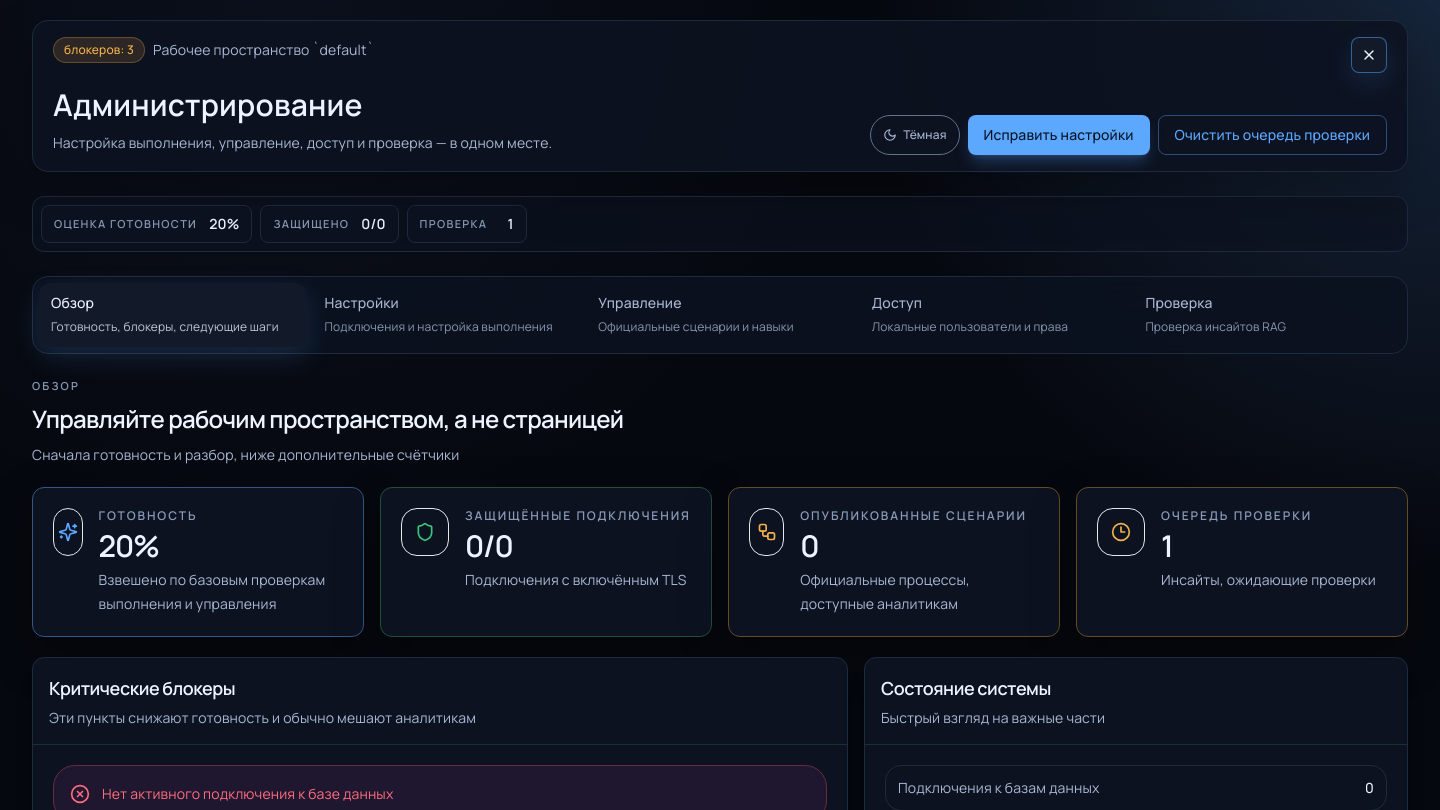
Test: AdminPageClient › validates and preserves the rate-limit dialog after an API error
Click the button "Доступ Локальные пользователи и права": (994, 315) [860,283,1127,347]
(page scrolled)
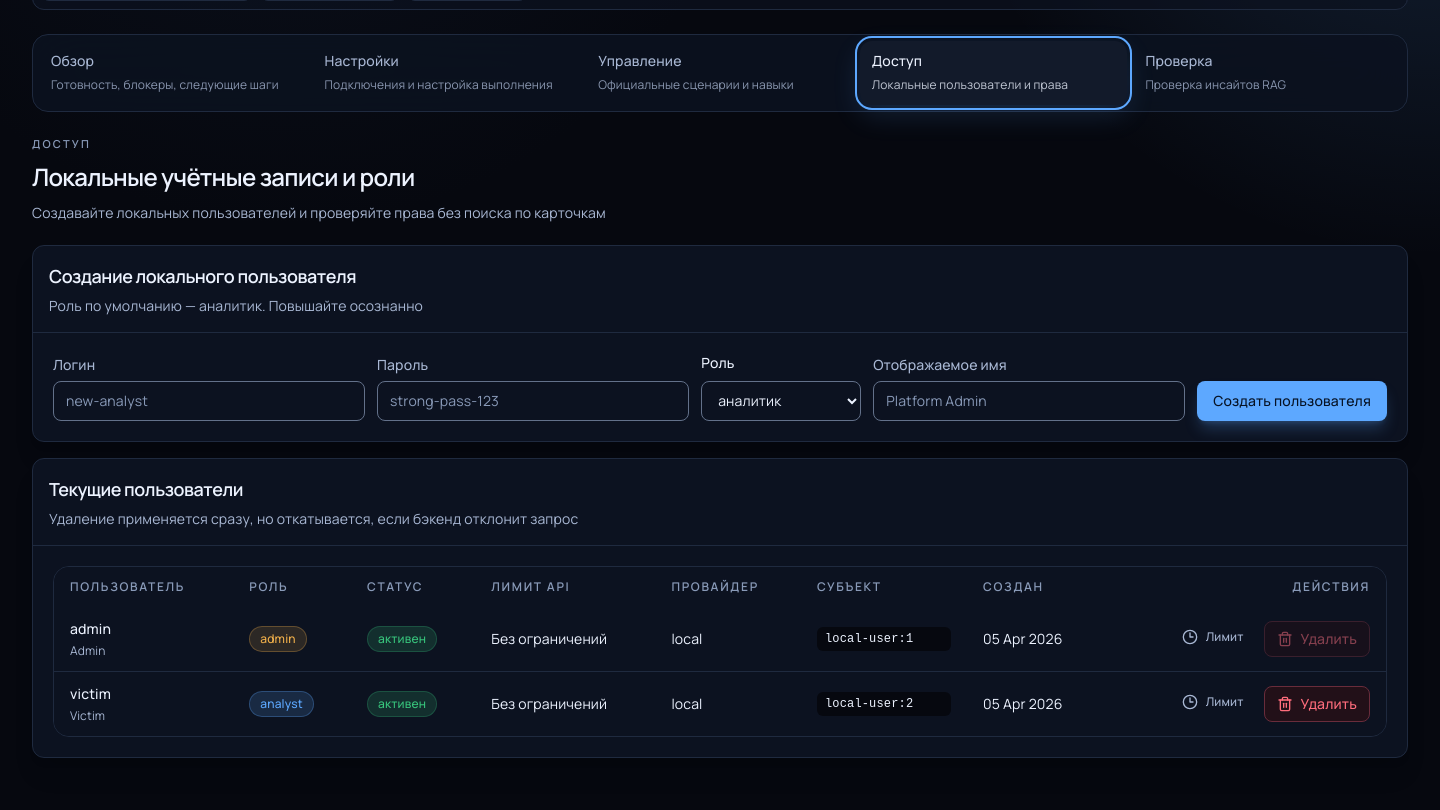
Click the button with aria-label "Настроить лимит API для victim": (1213, 702) [1170,686,1256,718]
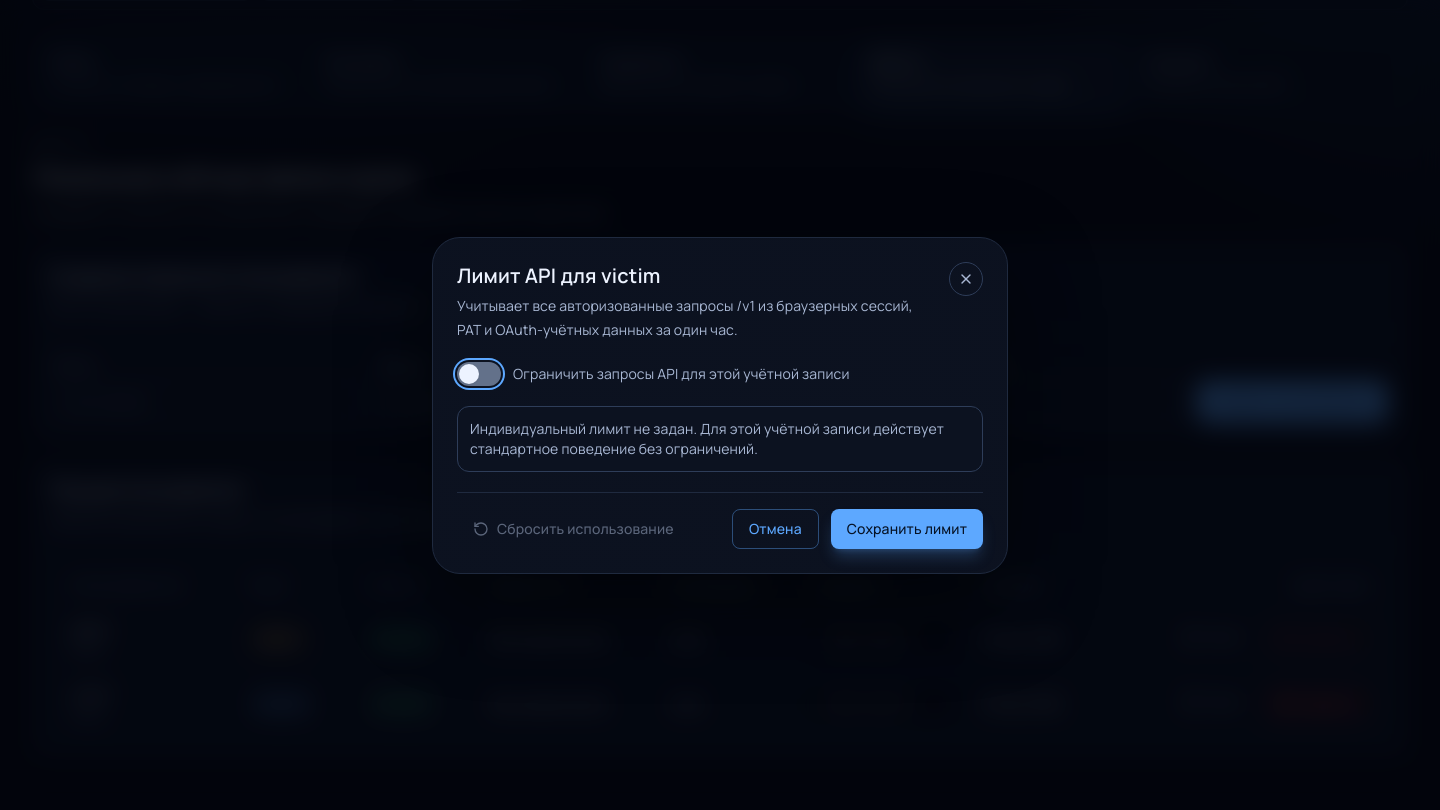
Click the checkbox labelled "Ограничить запросы API для этой учётной записи": (653, 374) [457,362,850,386]
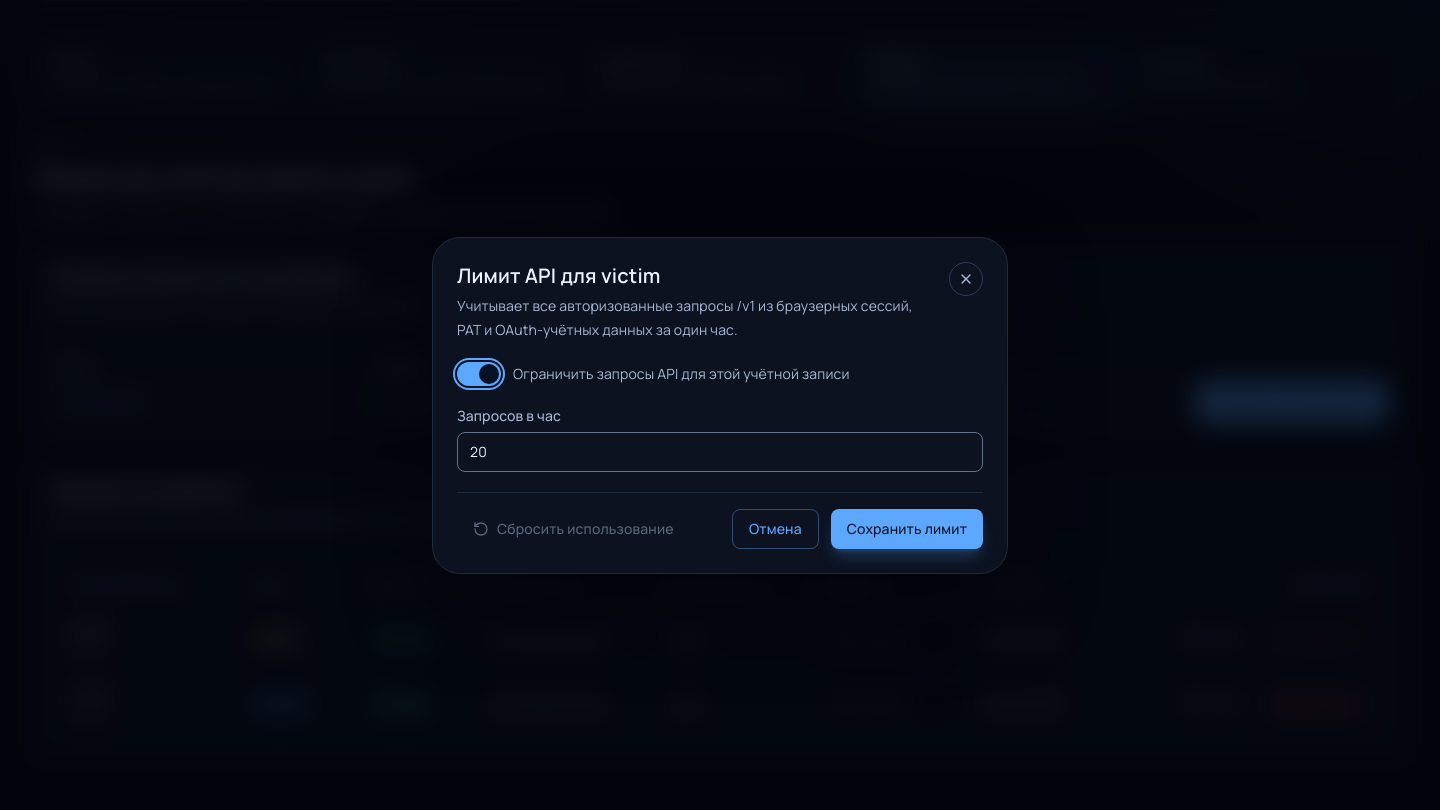
Replace the text in the number field labelled "Запросов в час" with "0": (720, 452) [457,432,983,472]
Click the button "Сохранить лимит": (907, 528) [831,508,983,548]
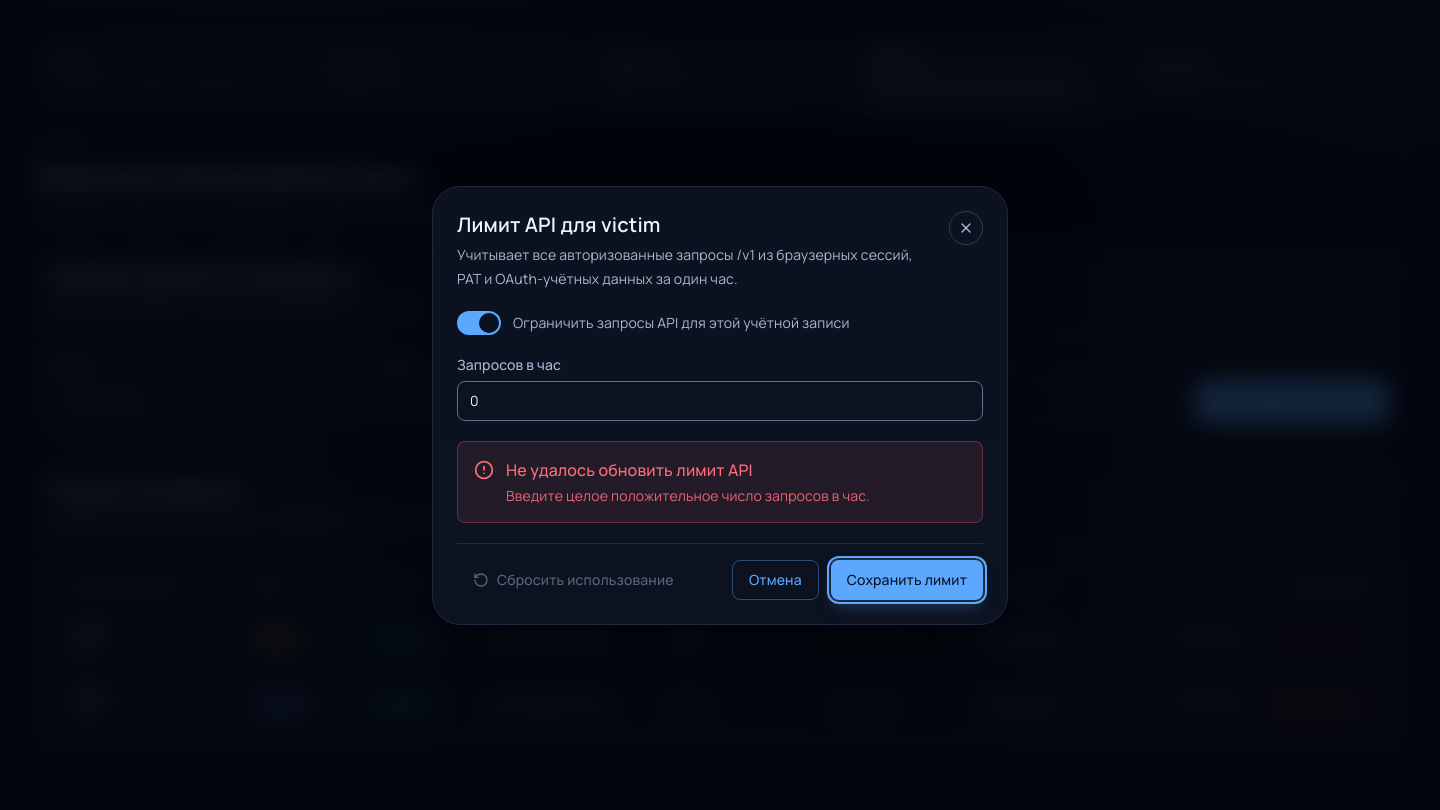
Result: the text "Введите целое положительное число запросов в час." is shown at [506,486,870,504]
Replace the text in the number field labelled "Запросов в час" with "20": (720, 400) [457,380,983,420]
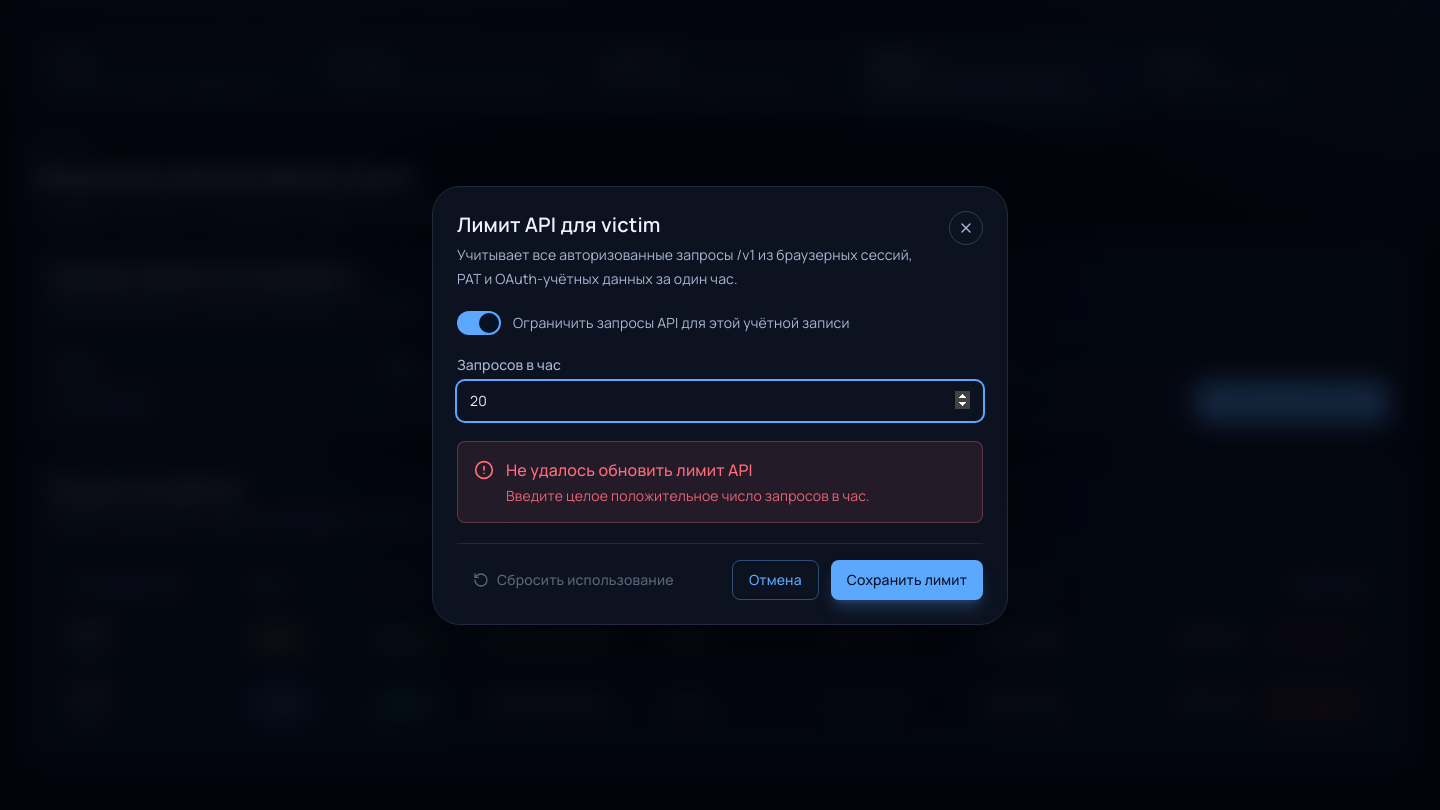
Click the button "Сохранить лимит": (907, 580) [831,560,983,600]
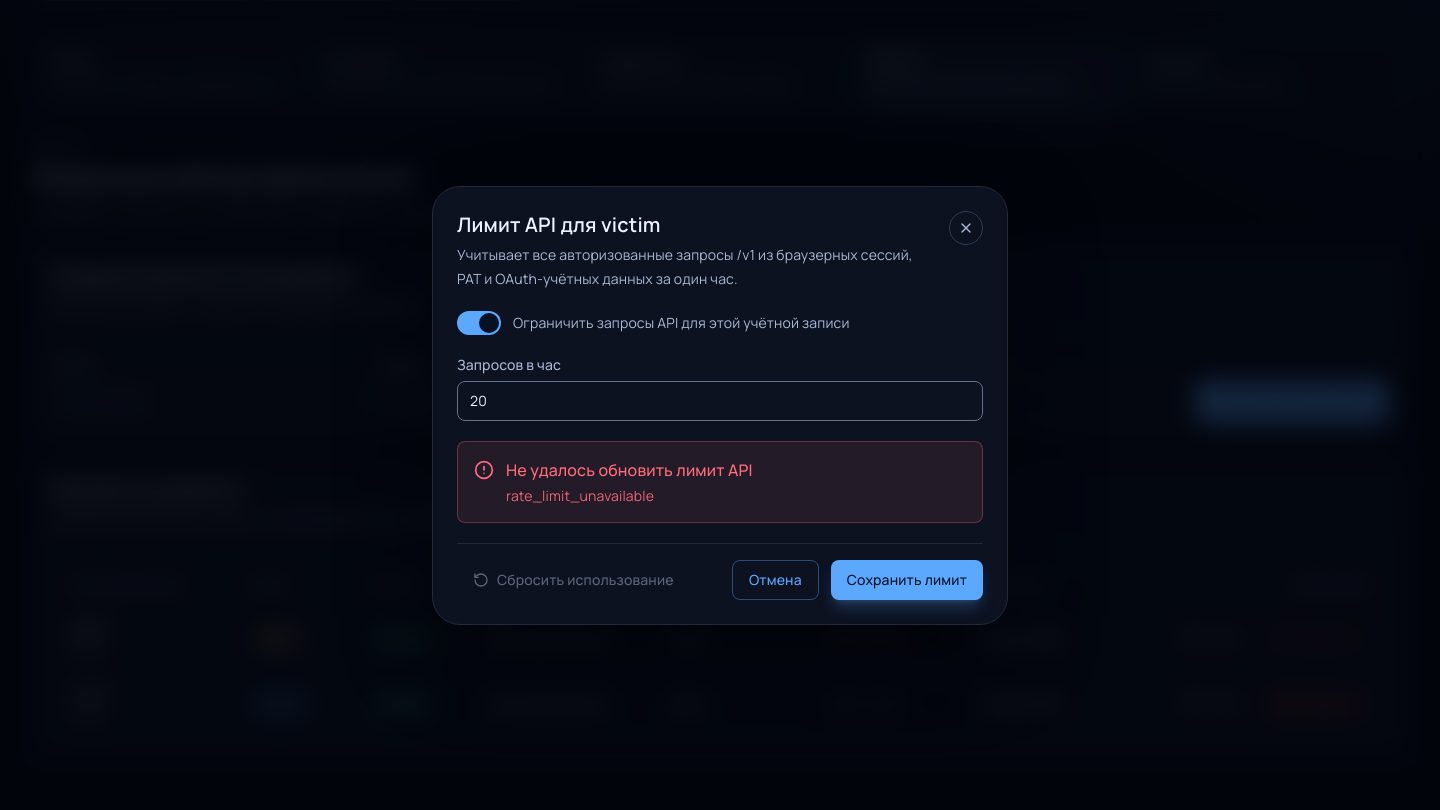
Result: the dialog is shown at [432,186,1008,624]
Result: the text "rate_limit_unavailable" is shown at [506,486,654,504]
